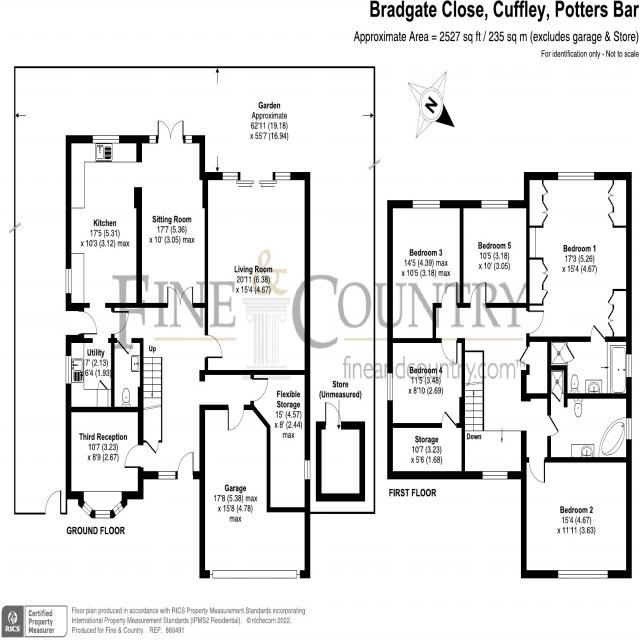DOOR: (78, 310, 98, 335), (124, 444, 144, 469), (528, 457, 546, 484), (177, 451, 194, 479), (204, 334, 223, 359), (111, 310, 130, 335), (470, 281, 487, 308), (441, 281, 458, 308), (441, 338, 458, 364), (526, 310, 544, 334), (250, 378, 268, 402), (547, 414, 560, 437), (590, 324, 606, 342), (441, 411, 457, 428)
DOUBLE DOOR: (157, 115, 185, 143), (167, 282, 194, 308)
ROOM: (202, 172, 310, 375), (524, 172, 632, 342), (521, 457, 632, 579), (66, 135, 142, 308), (387, 200, 464, 343), (65, 407, 144, 519), (459, 200, 530, 308), (387, 338, 465, 429)
WINDOW: (557, 570, 608, 579), (557, 172, 595, 181), (412, 199, 441, 209), (481, 199, 509, 209), (92, 135, 120, 144), (482, 471, 508, 480), (65, 354, 72, 385), (112, 501, 124, 517), (65, 268, 72, 295), (82, 501, 93, 517), (387, 372, 393, 401), (158, 471, 176, 480), (304, 459, 311, 480), (626, 354, 632, 378), (222, 172, 238, 181), (95, 510, 111, 519), (626, 417, 632, 440), (275, 172, 291, 180), (149, 135, 156, 144), (185, 135, 192, 144)
